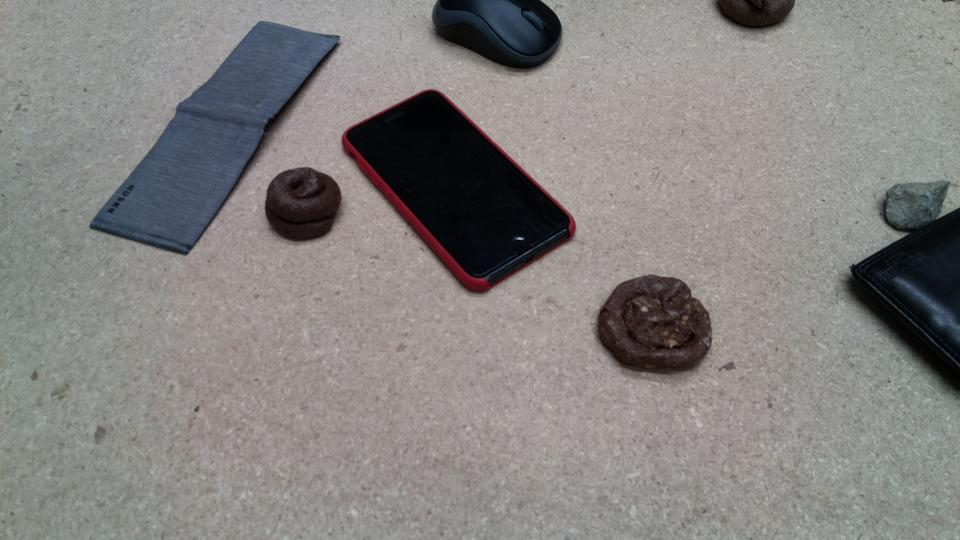poop: (594, 270, 713, 378), (263, 164, 342, 244), (713, 1, 796, 31)
